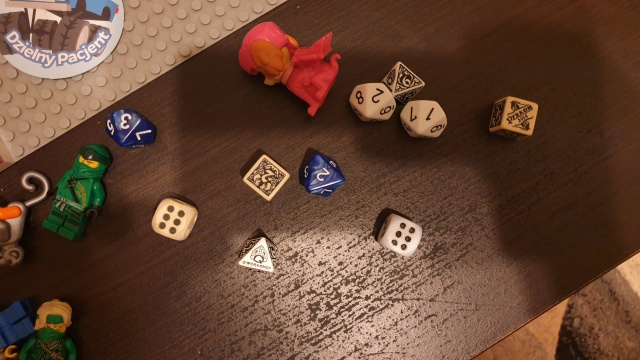d10-1: (397, 96, 449, 142)
d10-2: (300, 152, 347, 202), (348, 76, 394, 125)
d10-3: (100, 107, 160, 151)
d6-6: (149, 194, 200, 245), (375, 211, 422, 258)
d6p-1: (489, 96, 539, 146)
d6p-2: (241, 151, 290, 200)
d8p-6: (386, 62, 426, 98)
d8p-8: (236, 228, 280, 279)
